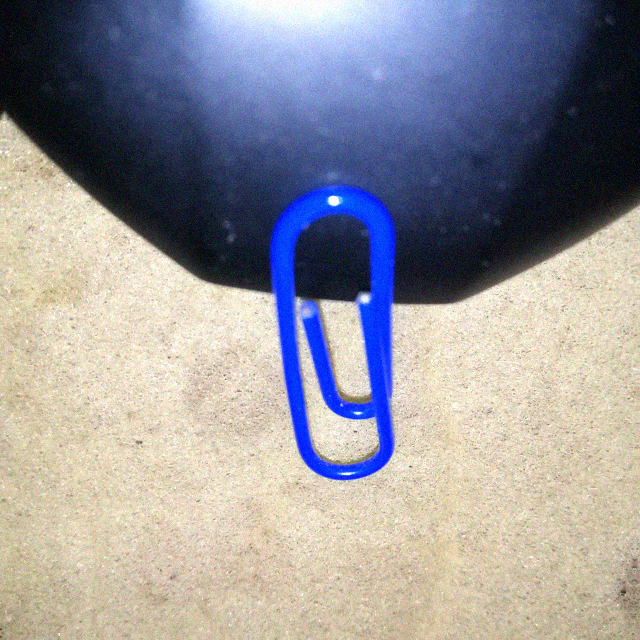pin: (270, 190, 399, 489)
